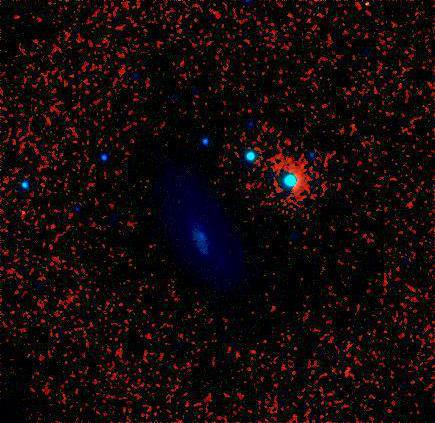star: (0, 356, 22, 386)
